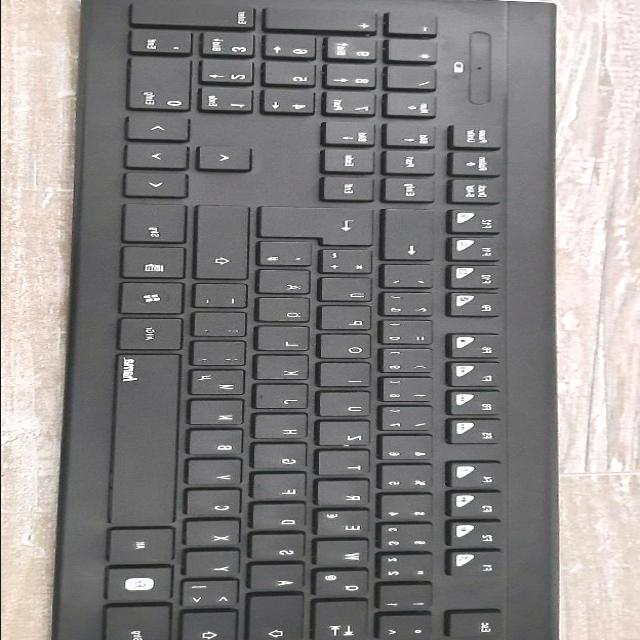0: (382, 322, 438, 348)
1: (379, 586, 437, 612)
2: (380, 555, 436, 582)
3: (380, 524, 438, 552)
4: (381, 496, 437, 523)
5: (381, 467, 437, 493)
6: (381, 436, 437, 462)
7: (382, 407, 438, 433)
8: (383, 379, 439, 405)
9: (383, 350, 439, 376)
a: (250, 565, 310, 593)
accent: (384, 266, 440, 291)
ae: (258, 271, 316, 297)
alt-left: (109, 530, 181, 566)
altgr-right: (120, 319, 188, 353)
b: (189, 431, 249, 458)
c: (188, 491, 248, 519)
caret: (380, 617, 437, 640)
comma: (193, 342, 251, 368)
d: (253, 505, 311, 532)
del: (385, 211, 445, 263)
e: (317, 511, 375, 539)
enter: (260, 209, 379, 247)
f: (253, 475, 311, 501)
g: (254, 446, 312, 472)
h: (254, 415, 312, 441)
hash: (259, 243, 319, 269)
i: (320, 364, 376, 390)
j: (256, 386, 314, 412)
k: (257, 357, 315, 383)
keyboard: (47, 0, 561, 640)
l: (257, 328, 315, 354)
less: (184, 582, 246, 611)
m: (190, 371, 250, 398)
minus: (195, 286, 253, 312)
n: (190, 401, 250, 428)
o: (320, 336, 378, 362)
oe: (257, 299, 315, 325)
p: (320, 307, 378, 333)
plus: (321, 251, 379, 277)
point: (194, 314, 252, 340)
q: (315, 572, 375, 600)
r: (317, 481, 375, 508)
s: (252, 535, 310, 563)
shift-left: (184, 614, 242, 640)
shift-lock: (251, 597, 310, 640)
shift-right: (198, 206, 254, 282)
space: (112, 356, 185, 528)
ss: (383, 295, 439, 319)
strg-left: (106, 607, 178, 640)
strg-right: (123, 204, 191, 247)
t: (318, 452, 376, 478)
tab: (315, 602, 373, 640)
u: (318, 393, 376, 419)
ue: (319, 279, 377, 305)
v: (189, 461, 249, 488)
w: (317, 542, 375, 570)
x: (187, 522, 247, 549)
y: (187, 553, 245, 580)
z: (318, 422, 376, 448)
